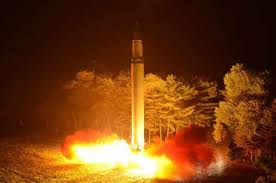ten_lua: (117, 15, 155, 155)
